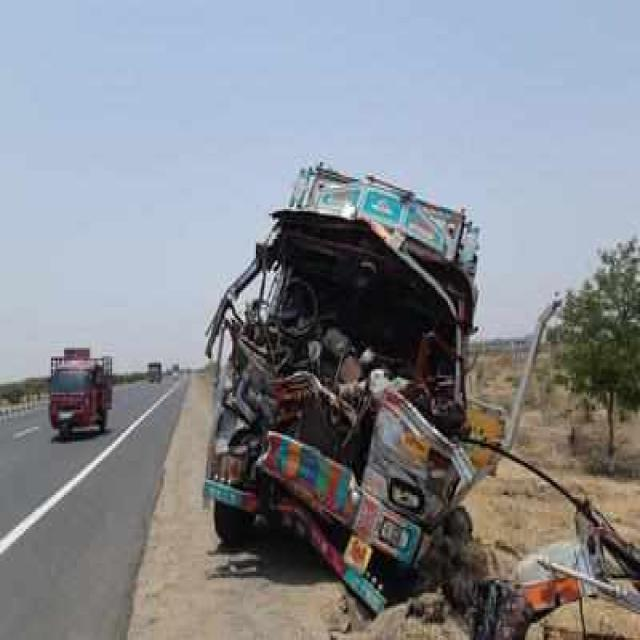accident: (205, 168, 511, 612)
